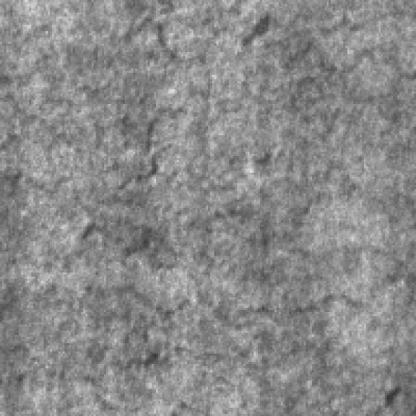crazing: (2, 10, 173, 204), (2, 277, 320, 370), (158, 214, 412, 327)
